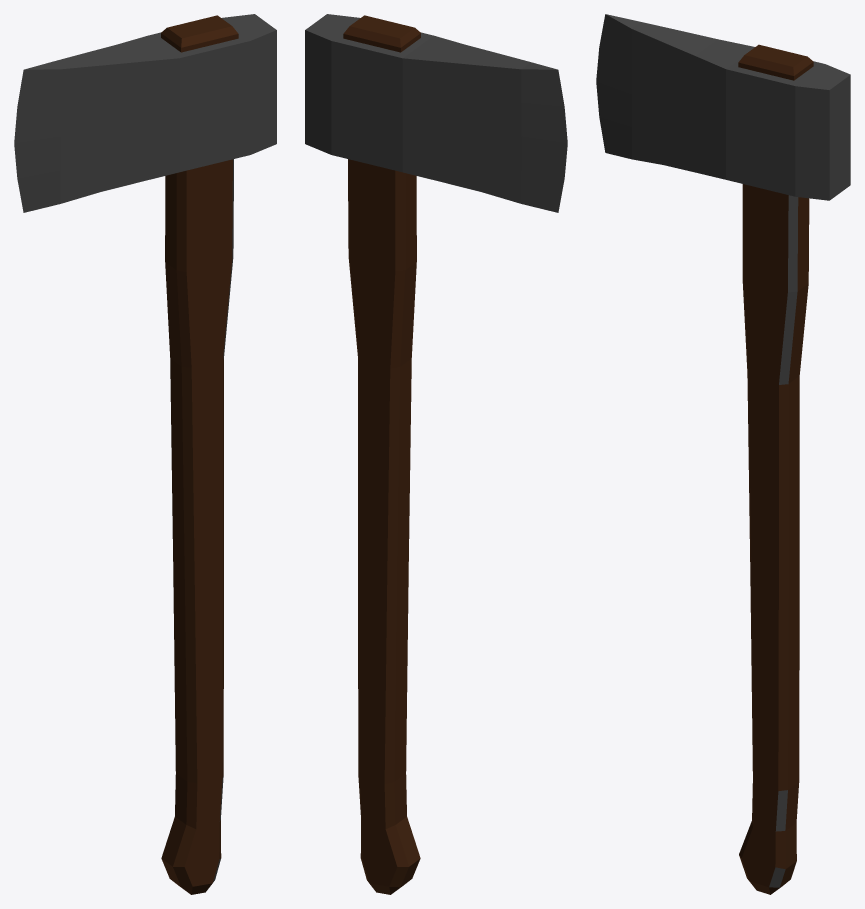
File: Axe_FBX.fbx
3 renders of one model, left to right at view 1: azimuth 30°, elevation 25°; view 2: azimuth 150°, elevation 25°; view 3: azimuth 330°, elevation 25°, orthographic. The views are drawn at different scales.
Parts seen in each view (by area): view 1: Axe; view 2: Axe; view 3: Axe.
Boxes of the visible parts, bbox=[...] form: Axe: bbox=[14, 14, 276, 894]; Axe: bbox=[305, 14, 567, 894]; Axe: bbox=[596, 14, 850, 894].
Size of the model in its own units: 32.96 by 108 by 7.05.
